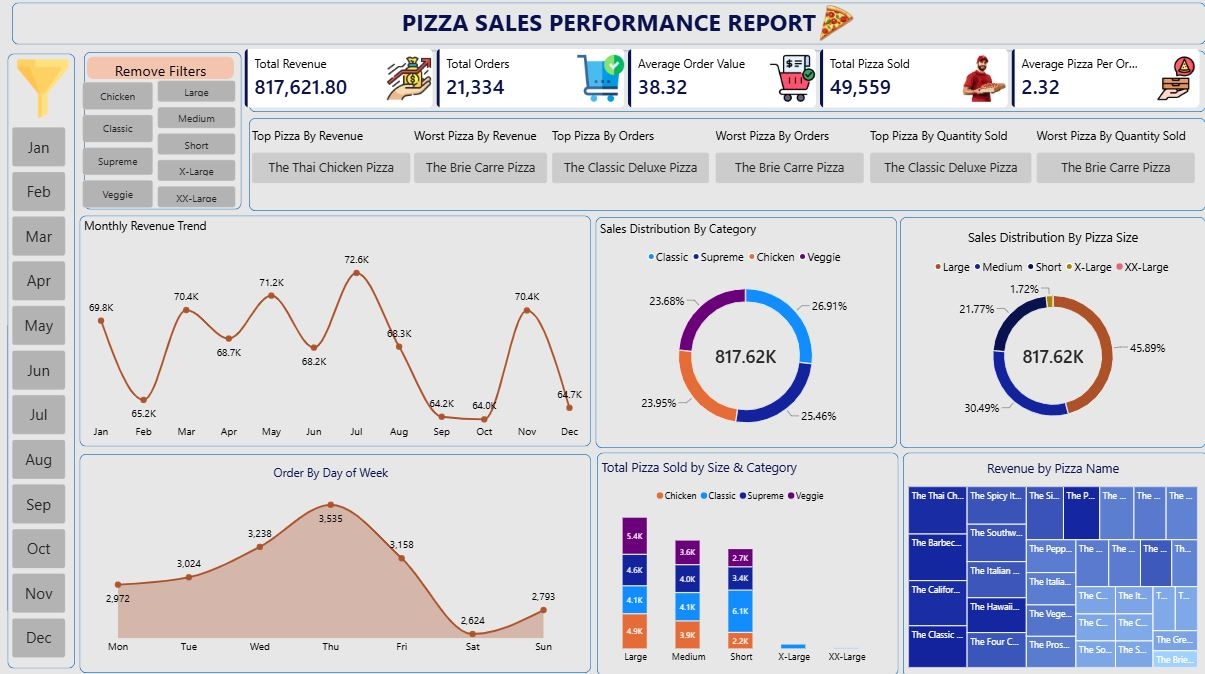

This screenshot's page, from the dashboard's own definition file:
{"tool":"powerbi","page":{"name":"Dashboard","canvas":[1920,1080],"ordinal":0},"visuals":[{"type":"group","id":"g1","title":"Group 1","box":[11.7,8.1,1910,1073.7],"z":0},{"type":"shape","box":[18.9,8.1,1899.2,66.8],"z":0,"group":"g1"},{"type":"cardVisual","fields":{"Data":["PIZZA SALES.Total Revenue","PIZZA SALES.Total Orders","PIZZA SALES.Average Order Value","PIZZA SALES.Total Pizza Sold","PIZZA SALES.Average Pizza Per Order"]},"box":[388.9,81.1,1522.2,93.1],"z":1000},{"type":"shape","box":[11.7,90,107.4,978.2],"z":1000,"group":"g1"},{"type":"shape","box":[132.3,86.8,250.5,250.5],"z":2000,"group":"g1"},{"type":"lineChart","title":"Order By Day of Week","fields":{"Category":["PIZZA SALES.Day Name"],"Y":["PIZZA SALES.Total Orders"]},"box":[126.5,727.7,799.3,336.4],"z":2000},{"type":"shape","box":[394.7,84.4,1522.2,97.8],"z":3000,"group":"g1"},{"type":"donutChart","title":"Sales Distribution By Pizza Size","fields":{"Category":["PIZZA SALES.pizza_size"],"Y":["PIZZA SALES.Total Revenue"]},"box":[1433.9,353.1,482,357.9],"z":3000},{"type":"shape","box":[394.7,191.8,1522.2,147.9],"z":4000,"group":"g1"},{"type":"columnChart","title":"Total Pizza Sold by Size & Category","fields":{"Category":["PIZZA SALES.pizza_size"],"Series":["PIZZA SALES.pizza_category"],"Y":["PIZZA SALES.Total Pizza Sold"]},"box":[940.1,718.2,479.6,362.7],"z":4000},{"type":"shape","box":[125.1,346.9,813.6,367.4],"z":5000,"group":"g1"},{"type":"treemap","title":"Revenue by Pizza Name","fields":{"Group":["PIZZA SALES.pizza_name"],"Values":["PIZZA SALES.Total Revenue"]},"box":[1429.2,720.5,491.5,360.3],"z":5000},{"type":"advancedSlicerVisual","title":"Top Pizza By Revenue","fields":{"Values":["PIZZA SALES.pizza_name"]},"box":[400.8,205.2,252.9,90.7],"z":6000},{"type":"shape","box":[125.1,726.3,813.6,348.3],"z":6000,"group":"g1"},{"type":"advancedSlicerVisual","title":"Worst Pizza By Revenue","fields":{"Values":["PIZZA SALES.pizza_name"]},"box":[658.5,205.2,212.3,90.7],"z":7000},{"type":"shape","box":[945.9,349.3,479.6,367.4],"z":7000,"group":"g1"},{"type":"advancedSlicerVisual","title":"Top Pizza By Orders","fields":{"Values":["PIZZA SALES.pizza_name"]},"box":[878,205.2,250.5,90.7],"z":8000},{"type":"shape","box":[1430.2,349.3,486.7,367.4],"z":8000,"group":"g1"},{"type":"advancedSlicerVisual","title":"Worst Pizza By Orders","fields":{"Values":["PIZZA SALES.pizza_name"]},"box":[1138.1,205.2,236.2,90.7],"z":9000},{"type":"shape","box":[948.2,723.9,479.6,355.5],"z":9000,"group":"g1"},{"type":"advancedSlicerVisual","title":"Top Pizza By Quantity Sold","fields":{"Values":["PIZZA SALES.pizza_name"]},"box":[1383.8,205.2,257.7,90.7],"z":10000},{"type":"shape","box":[1435,723.9,486.7,357.9],"z":10000,"group":"g1"},{"type":"advancedSlicerVisual","title":"Worst Pizza By Quantity Sold","fields":{"Values":["PIZZA SALES.pizza_name"]},"box":[1648.7,205.2,252.9,90.7],"z":11000},{"type":"lineChart","title":"Monthly Revenue Trend","fields":{"Category":["PIZZA SALES.Month Name"],"Y":["PIZZA SALES.Total Revenue"]},"box":[132.3,349.3,799.3,357.9],"z":11000,"group":"g1"},{"type":"advancedSlicerVisual","fields":{"Values":["PIZZA SALES.Month Name"]},"box":[19.1,205.2,85.9,849.4],"z":12000},{"type":"donutChart","title":"Sales Distribution By Category","fields":{"Category":["PIZZA SALES.pizza_category"],"Y":["PIZZA SALES.Total Revenue"]},"box":[953,354.1,462.9,357.9],"z":12000,"group":"g1"},{"type":"actionButton","box":[138.2,94,233.8,35.8],"z":13000,"group":"g1"},{"type":"advancedSlicerVisual","fields":{"Values":["PIZZA SALES.pizza_category"]},"box":[131.2,133.6,112.1,202.8],"z":13000},{"type":"image","box":[21.2,55.8,93.1,178.9],"z":14000,"group":"g1"},{"type":"advancedSlicerVisual","fields":{"Values":["PIZZA SALES.pizza_size"]},"box":[250.5,131.2,124.1,205.2],"z":14000},{"type":"textbox","box":[594.7,134.4,300,300],"z":15000,"group":"g1"},{"type":"textbox","box":[29.2,12.7,1880.1,50.1],"z":16000,"group":"g1"},{"type":"image","box":[1273.8,8.1,109.8,66.8],"z":17000,"group":"g1"}]}

Visuals, with their boxes in screenshot pixels (x1, y1, x2, y2), scaled from the page's 1920x1080 canvas onto the 1205x674 screenshot:
"Group 1" group: (7, 5, 1204, 673)
shape: (12, 5, 1204, 47)
cardVisual - PIZZA SALES.Total Revenue x PIZZA SALES.Total Orders: (244, 51, 1199, 109)
shape: (7, 56, 75, 667)
shape: (83, 54, 240, 211)
"Order By Day of Week" lineChart: (79, 454, 581, 664)
shape: (248, 53, 1203, 114)
"Sales Distribution By Pizza Size" donutChart: (900, 220, 1202, 444)
shape: (248, 120, 1203, 212)
"Total Pizza Sold by Size & Category" columnChart: (590, 448, 891, 673)
shape: (79, 216, 589, 446)
"Revenue by Pizza Name" treemap: (897, 450, 1204, 673)
"Top Pizza By Revenue" advancedSlicerVisual: (252, 128, 410, 185)
shape: (79, 453, 589, 671)
"Worst Pizza By Revenue" advancedSlicerVisual: (413, 128, 547, 185)
shape: (594, 218, 895, 447)
"Top Pizza By Orders" advancedSlicerVisual: (551, 128, 708, 185)
shape: (898, 218, 1203, 447)
"Worst Pizza By Orders" advancedSlicerVisual: (714, 128, 863, 185)
shape: (595, 452, 896, 673)
"Top Pizza By Quantity Sold" advancedSlicerVisual: (868, 128, 1030, 185)
shape: (901, 452, 1204, 673)
"Worst Pizza By Quantity Sold" advancedSlicerVisual: (1035, 128, 1193, 185)
"Monthly Revenue Trend" lineChart: (83, 218, 585, 441)
advancedSlicerVisual - PIZZA SALES.Month Name: (12, 128, 66, 658)
"Sales Distribution By Category" donutChart: (598, 221, 889, 444)
actionButton: (87, 59, 233, 81)
advancedSlicerVisual - PIZZA SALES.pizza_category: (82, 83, 153, 210)
image: (13, 35, 72, 146)
advancedSlicerVisual - PIZZA SALES.pizza_size: (157, 82, 235, 210)
textbox: (373, 84, 562, 271)
textbox: (18, 8, 1198, 39)
image: (799, 5, 868, 47)
